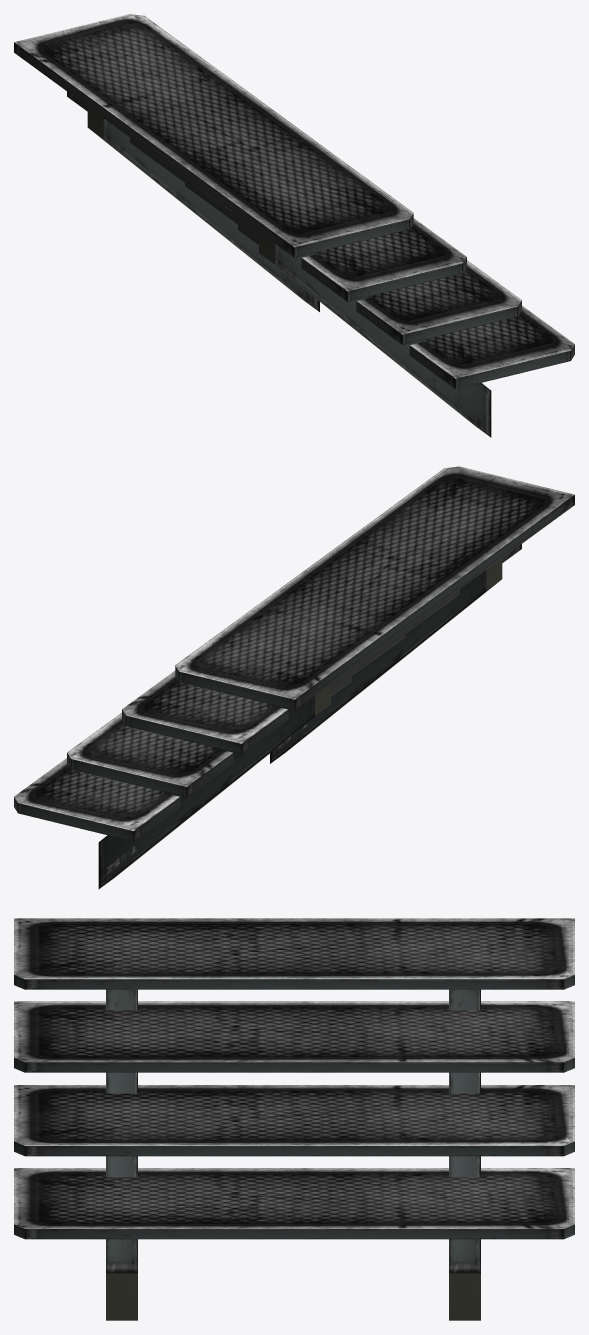
File: Stair_01.fbx
3 views of the same model, one above another, from view 1: azimuth 30°, elevation 25°; view 2: azimuth 150°, elevation 25°; view 3: azimuth 270°, elevation 25° (orthographic).
Parts seen in each view (by area): view 1: Stair_01; view 2: Stair_01; view 3: Stair_01.
Boxes of the visible parts, x1,y1,x2,y2 form: Stair_01: [14, 14, 574, 437]; Stair_01: [14, 466, 574, 888]; Stair_01: [14, 918, 574, 1320].
Size of the model in its own units: 106 by 100 by 180.
